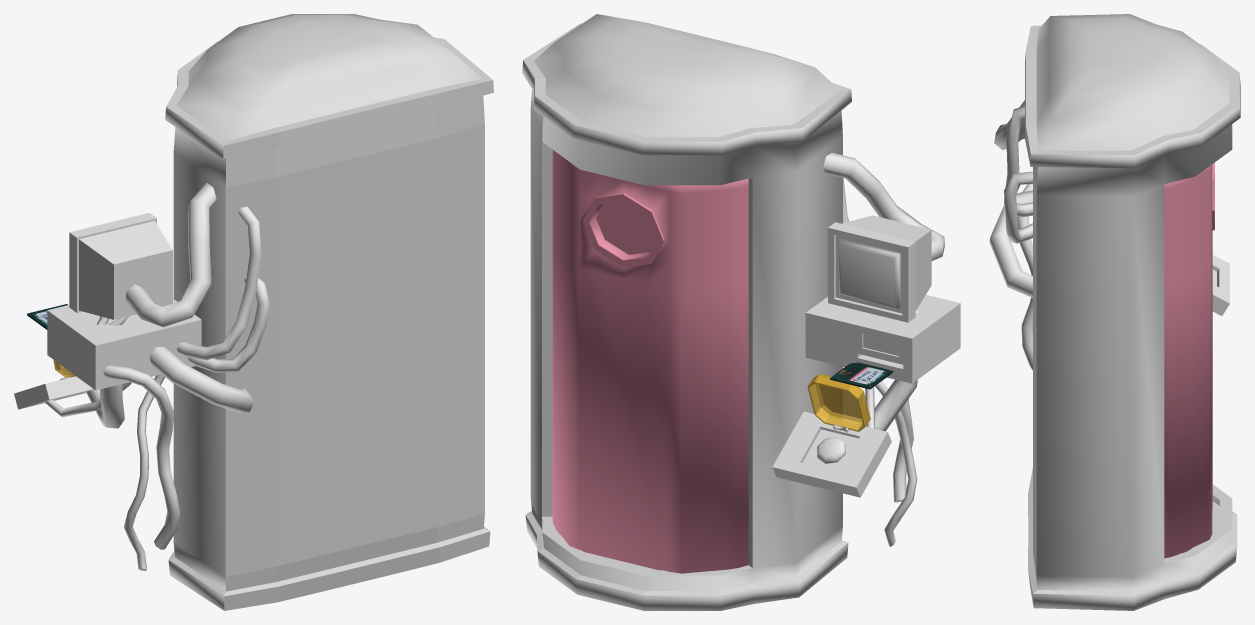
Rendered from RevivePod.fbx.
3 views of the same model, side by side, from view 1: azimuth 30°, elevation 25°; view 2: azimuth 150°, elevation 25°; view 3: azimuth 270°, elevation 25° (orthographic). The views are drawn at different scales.
Parts seen in each view (by area): view 1: Capsul, Hardware, kabel_M, kabel_L, kable_S; view 2: Capsul, door, Hardware, kabel_M, SavetyThingy, kable_S, kabel_L, RevivalFloppy, Button; view 3: Capsul, door, kabel_L, kabel_M, Hardware.
Part boxes in pixels (x1=…): Capsul: x1=165, y1=14, x2=493, y2=610; Hardware: x1=14, y1=213, x2=201, y2=409; kabel_M: x1=86, y1=183, x2=254, y2=428; kabel_L: x1=103, y1=206, x2=269, y2=549; kable_S: x1=44, y1=316, x2=165, y2=570; Capsul: x1=522, y1=14, x2=851, y2=610; door: x1=552, y1=150, x2=748, y2=573; Hardware: x1=772, y1=215, x2=960, y2=497; kabel_M: x1=823, y1=152, x2=944, y2=431; SavetyThingy: x1=807, y1=373, x2=870, y2=431; kable_S: x1=865, y1=310, x2=918, y2=546; kabel_L: x1=843, y1=178, x2=913, y2=502; RevivalFloppy: x1=830, y1=362, x2=893, y2=389; Button: x1=817, y1=437, x2=845, y2=463; Capsul: x1=1025, y1=14, x2=1240, y2=610; door: x1=1164, y1=162, x2=1214, y2=558; kabel_L: x1=1004, y1=106, x2=1032, y2=370; kabel_M: x1=989, y1=100, x2=1032, y2=297; Hardware: x1=1212, y1=255, x2=1229, y2=315.
Bounding box in the file's own units: 2.01 × 1.14 × 2.48.
